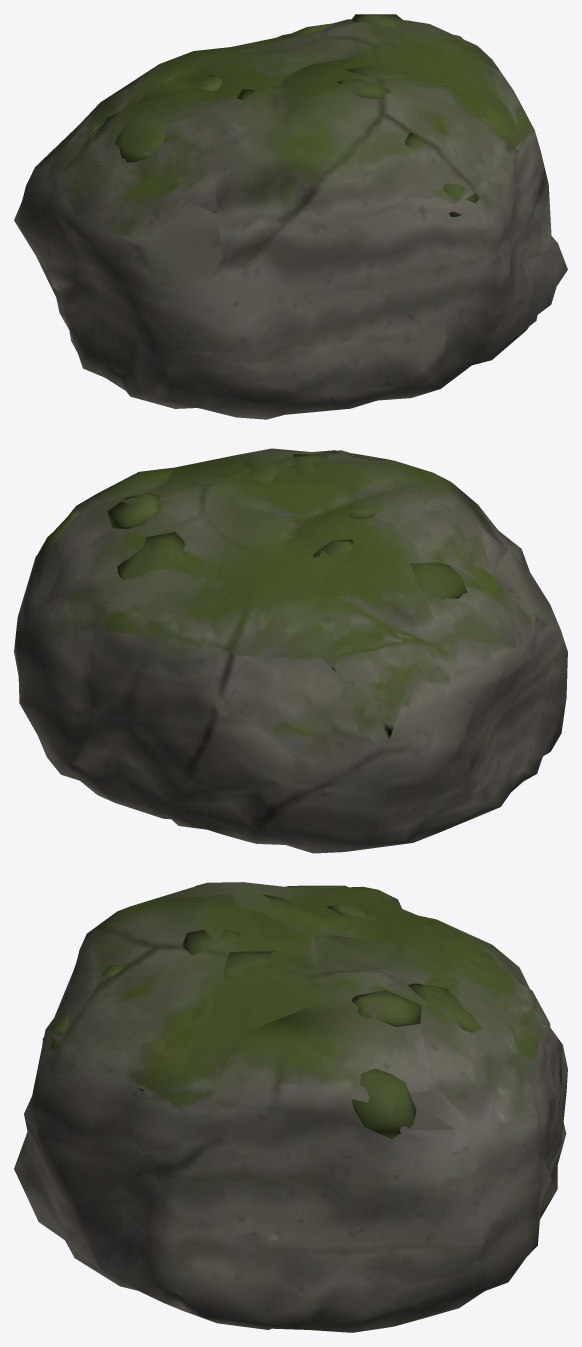
The model's file is rock_a_lod1.glb.
3 renders of one model, top to bottom at view 1: azimuth 30°, elevation 25°; view 2: azimuth 150°, elevation 25°; view 3: azimuth 270°, elevation 25°, orthographic. The views are drawn at different scales.
Parts seen in each view (by area): view 1: rock_a_lod1; view 2: rock_a_lod1; view 3: rock_a_lod1.
Part boxes in pixels (x1=…): rock_a_lod1: x1=14, y1=14, x2=567, y2=419; rock_a_lod1: x1=14, y1=448, x2=567, y2=853; rock_a_lod1: x1=14, y1=882, x2=567, y2=1332.
Bounding box in the file's own units: 1.62 × 1.02 × 1.52.
Materials: 1 (1 with a texture image).
